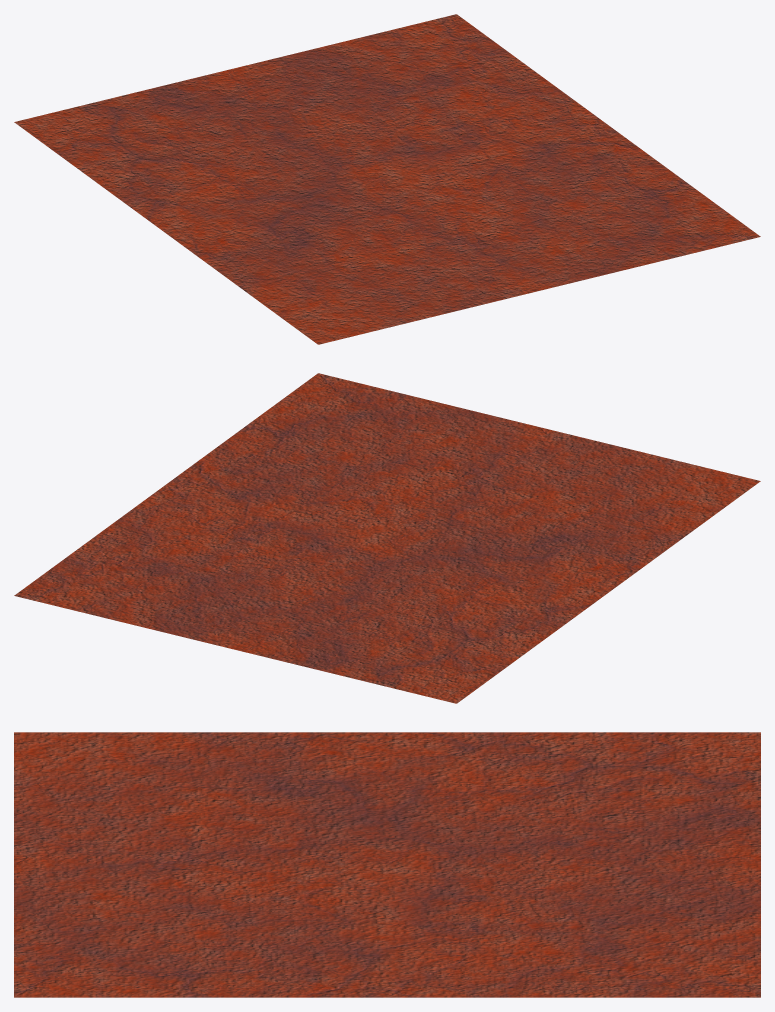
File: ArenaDenialFloor.fbx
3 renders of one model, top to bottom at view 1: azimuth 30°, elevation 25°; view 2: azimuth 150°, elevation 25°; view 3: azimuth 270°, elevation 25°, orthographic. The views are drawn at different scales.
Parts seen in each view (by area): view 1: ArenaFloor; view 2: ArenaFloor; view 3: ArenaFloor.
Boxes of the visible parts, box(x1,y1,x2,y2) form: ArenaFloor: box(14, 14, 760, 344); ArenaFloor: box(14, 373, 760, 703); ArenaFloor: box(14, 732, 760, 997).
Size of the model in its own units: 4200 by 2.22e-16 by 5000.
Materials: 1 (1 with a texture image).
